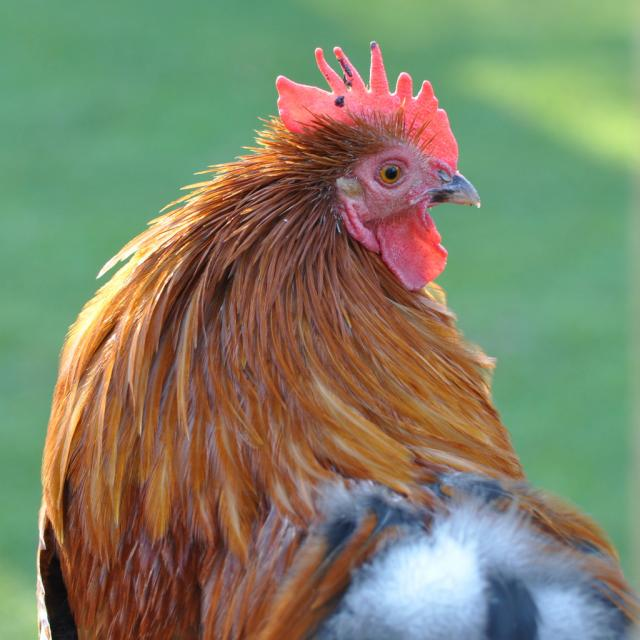Chicken: (35, 42, 640, 640)
